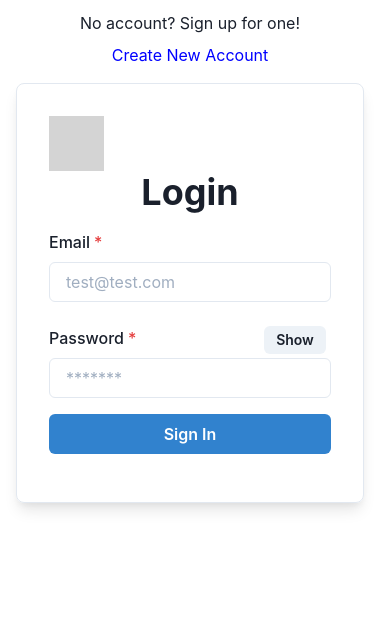
SignInOrUp › should render the sign up form
The width and height of the screenshot is (381, 625).
Click the link "Create New Account".
click(190, 55)  # box [112,43,268,67]
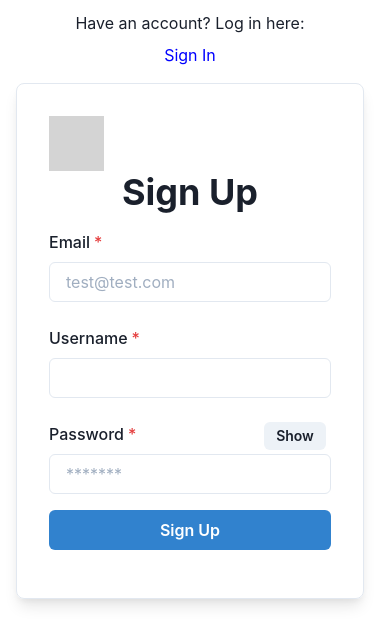
Result: the text "Username" is shown at [49,328,128,348]
